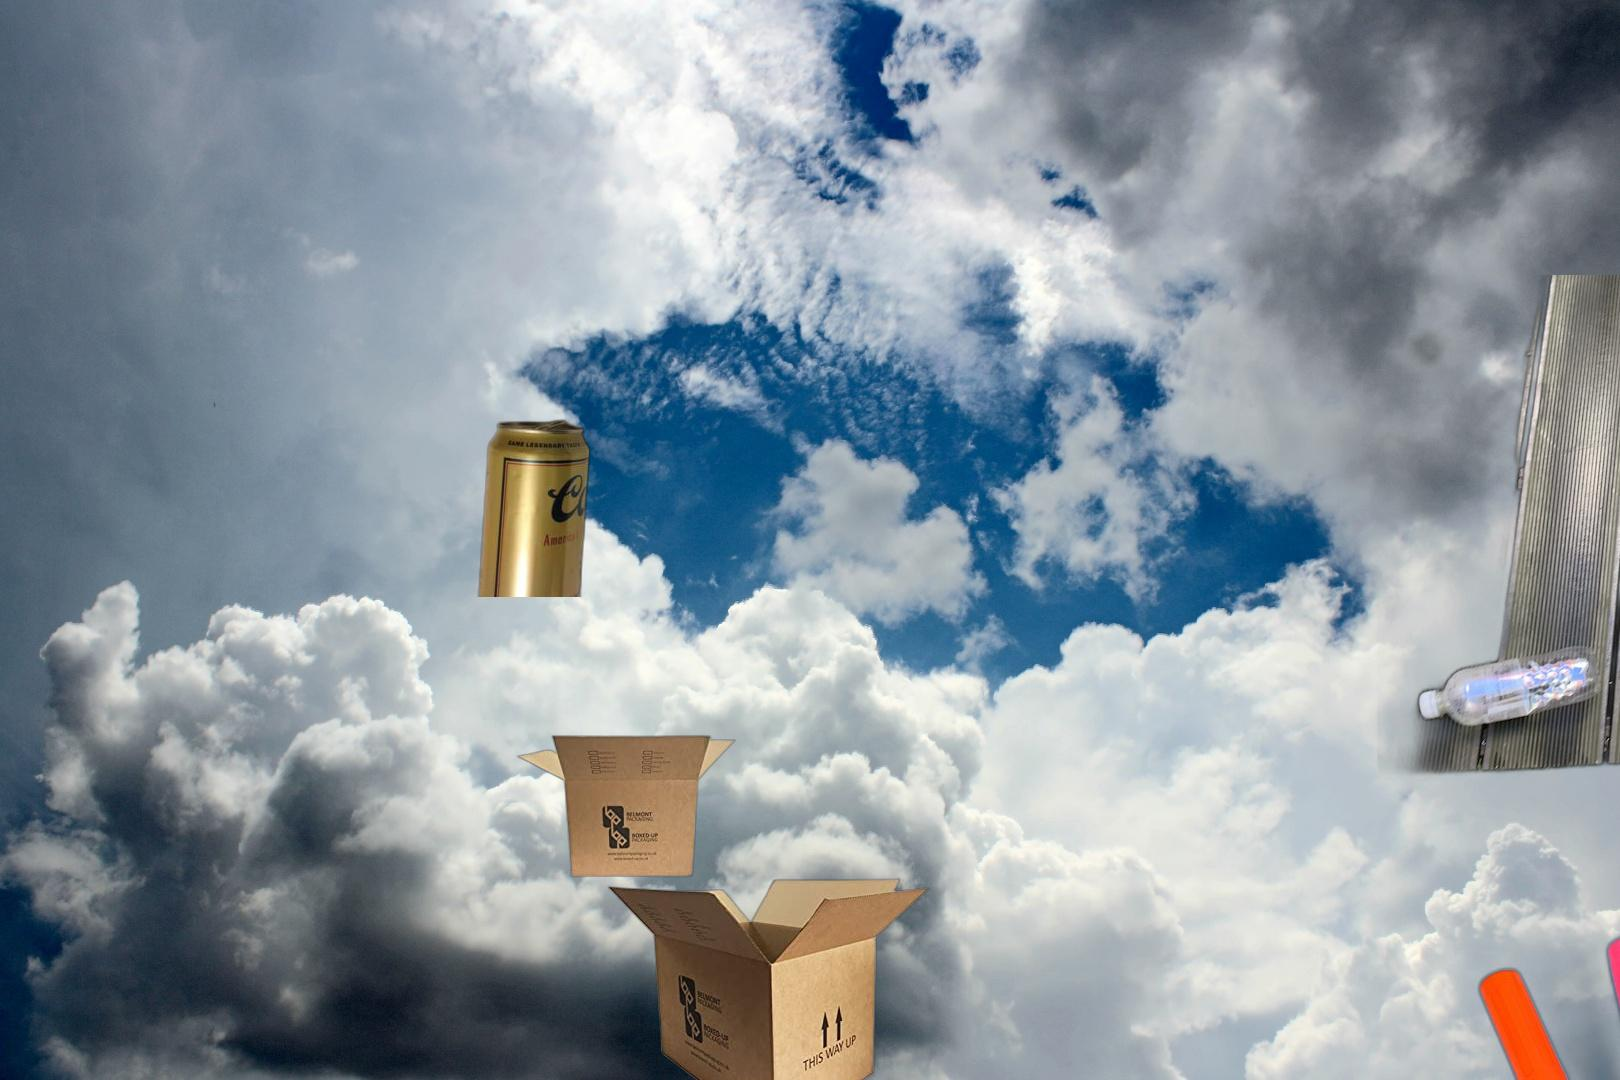metal-cans: (474, 417, 595, 597)
penholder: (1473, 887, 1620, 1080)
plastic-bottles: (1377, 275, 1620, 783)
trashbox-cardboard: (512, 724, 933, 1080)
